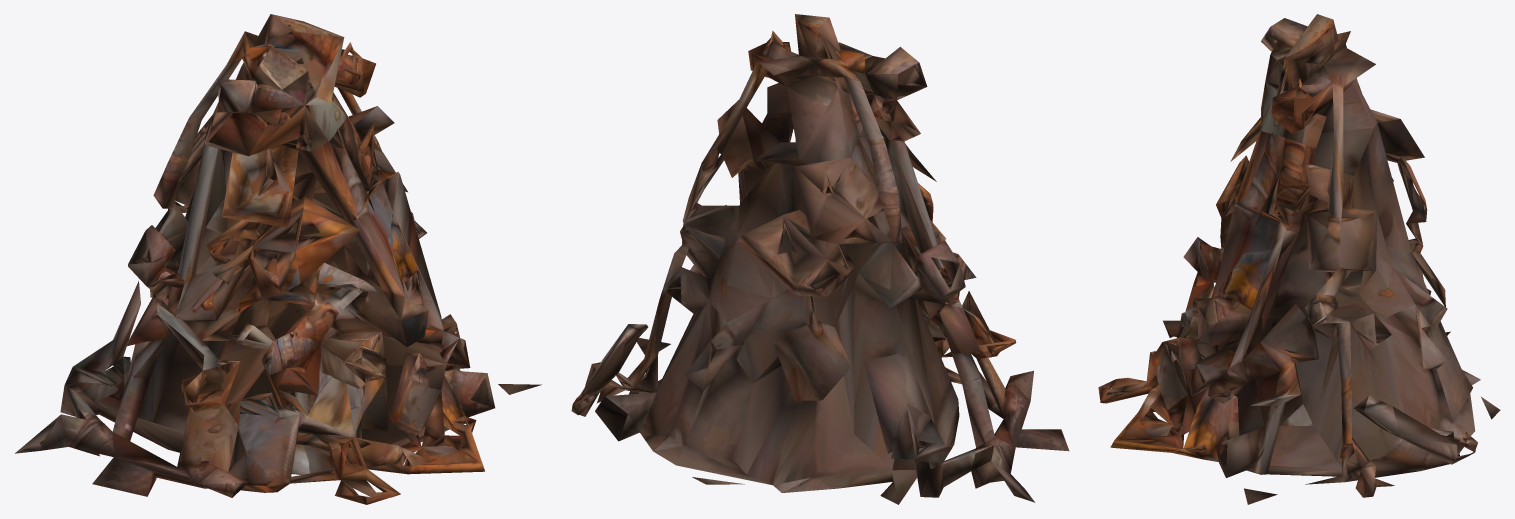
Rendered from gnd_urban_scrap.fbx.
3 renders of one model, left to right at view 1: azimuth 30°, elevation 25°; view 2: azimuth 150°, elevation 25°; view 3: azimuth 270°, elevation 25°, orthographic. The views are drawn at different scales.
Visible parts, largest first — view 1: gnd_urban_scrap_LOD0; view 2: gnd_urban_scrap_LOD0; view 3: gnd_urban_scrap_LOD0.
Boxes of the visible parts, box(x1,y1,x2,y2) form: gnd_urban_scrap_LOD0: box(15, 14, 541, 504); gnd_urban_scrap_LOD0: box(571, 14, 1069, 504); gnd_urban_scrap_LOD0: box(1098, 14, 1500, 504).
Size of what is drawn, in the model's own units: 0.9824 by 0.816 by 0.7686.
